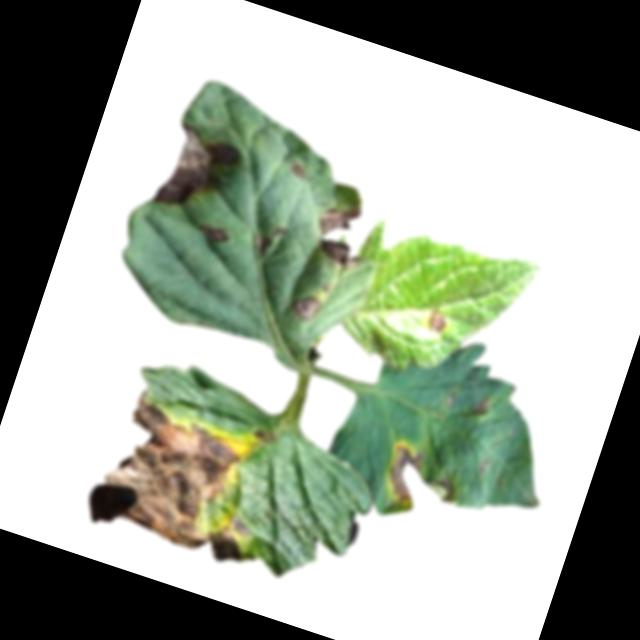Early_blight: (78, 382, 287, 572), (147, 119, 244, 227), (375, 439, 470, 527), (304, 198, 378, 277), (251, 219, 288, 257), (288, 293, 326, 328), (196, 221, 230, 252), (424, 308, 448, 335), (470, 397, 494, 421), (289, 162, 308, 183)
